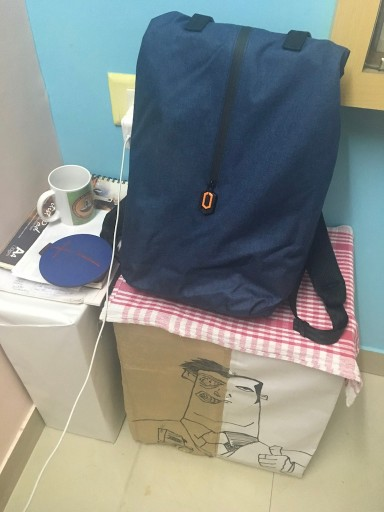cup: (164, 262, 210, 326)
speaker: (85, 248, 152, 305)
